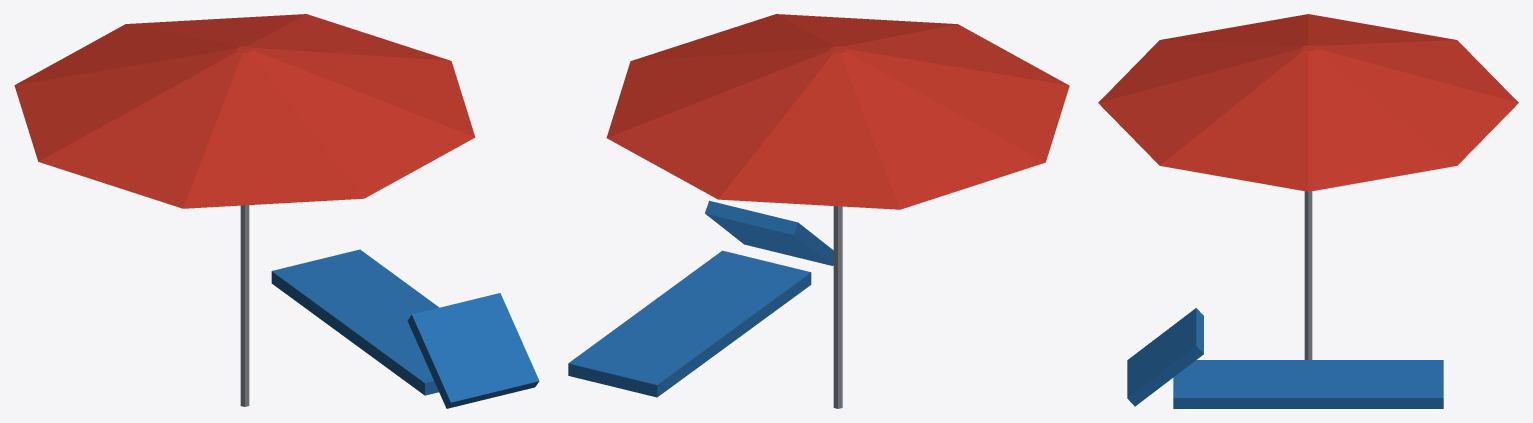
File: prop_umbrella.glb
The picture shows the model from 3 angles, left to right: view 1: azimuth 30°, elevation 25°; view 2: azimuth 150°, elevation 25°; view 3: azimuth 270°, elevation 25°; orthographic projection. The views are drawn at different scales.
Visible parts, largest first — view 1: prop_umbrella__mesh; view 2: prop_umbrella__mesh; view 3: prop_umbrella__mesh.
Part boxes in pixels (bbox=[...]): prop_umbrella__mesh: bbox=[14, 14, 539, 408]; prop_umbrella__mesh: bbox=[568, 14, 1069, 408]; prop_umbrella__mesh: bbox=[1098, 14, 1518, 408].
Bounding box in the file's own units: 2.8 × 2.3 × 2.8.
